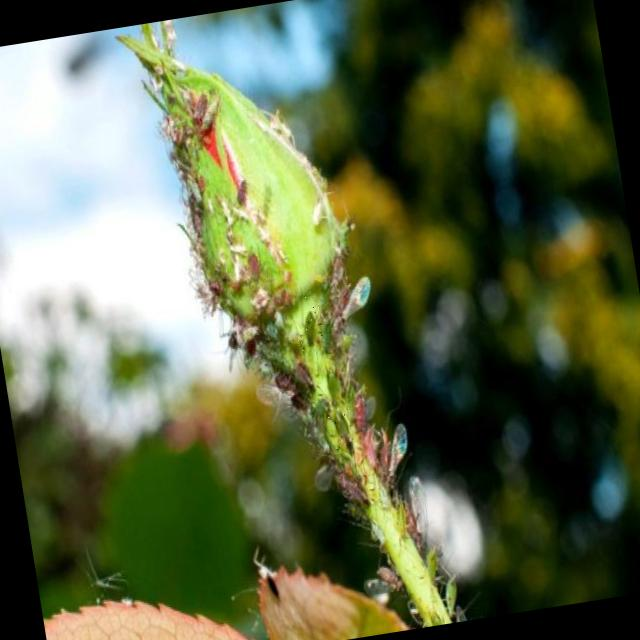aphid: (293, 295, 328, 357), (327, 399, 358, 452)
